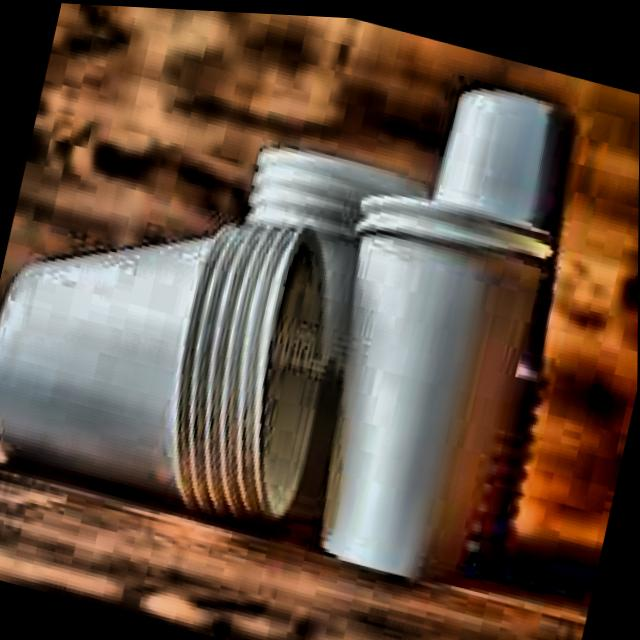Cup: (0, 150, 358, 548), (286, 167, 570, 601)
